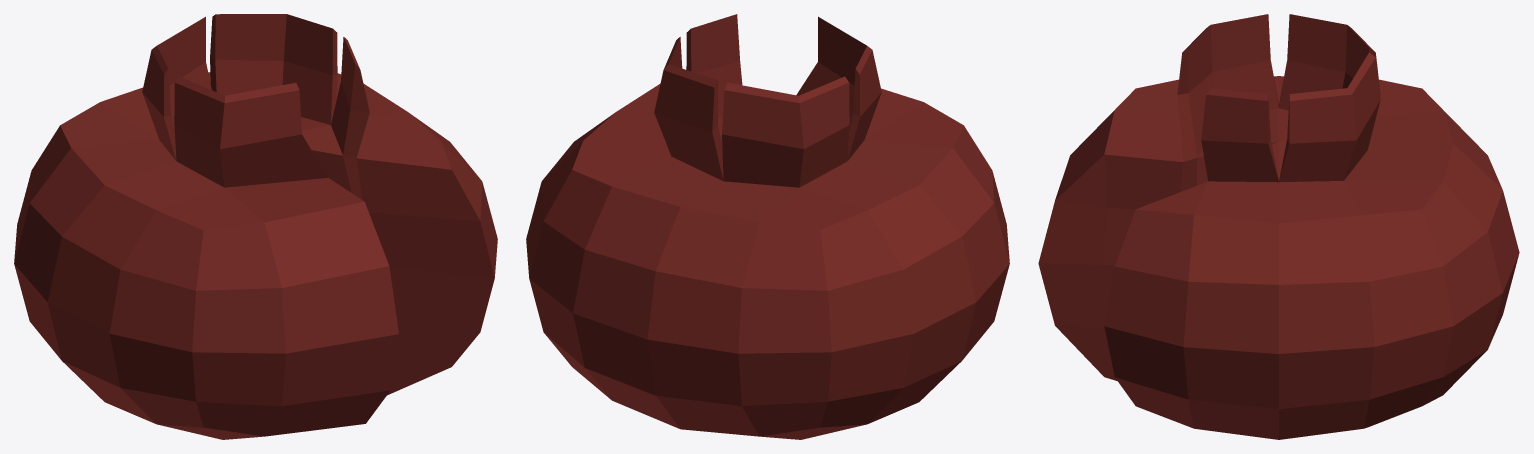
File: SegmentedGranate.fbx
The picture shows the model from 3 angles, left to right: view 1: azimuth 30°, elevation 25°; view 2: azimuth 150°, elevation 25°; view 3: azimuth 270°, elevation 25°; orthographic projection.
Parts seen in each view (by area): view 1: SegmentedPG; view 2: SegmentedPG; view 3: SegmentedPG.
Part boxes in pixels (bbox=[...]): SegmentedPG: bbox=[14, 14, 497, 439]; SegmentedPG: bbox=[526, 14, 1009, 439]; SegmentedPG: bbox=[1038, 14, 1519, 439].
Size of the model in its own units: 154 by 127 by 155.
